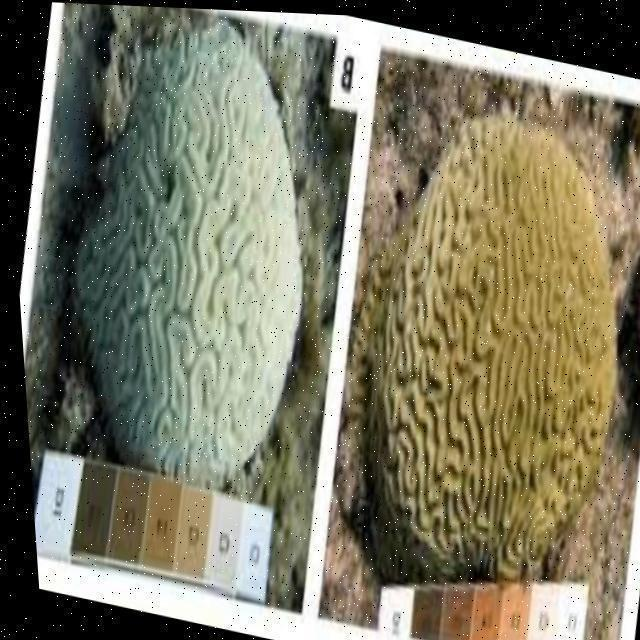Bleached Coral: (90, 36, 328, 461)
Healthy Coral: (305, 106, 640, 610)
